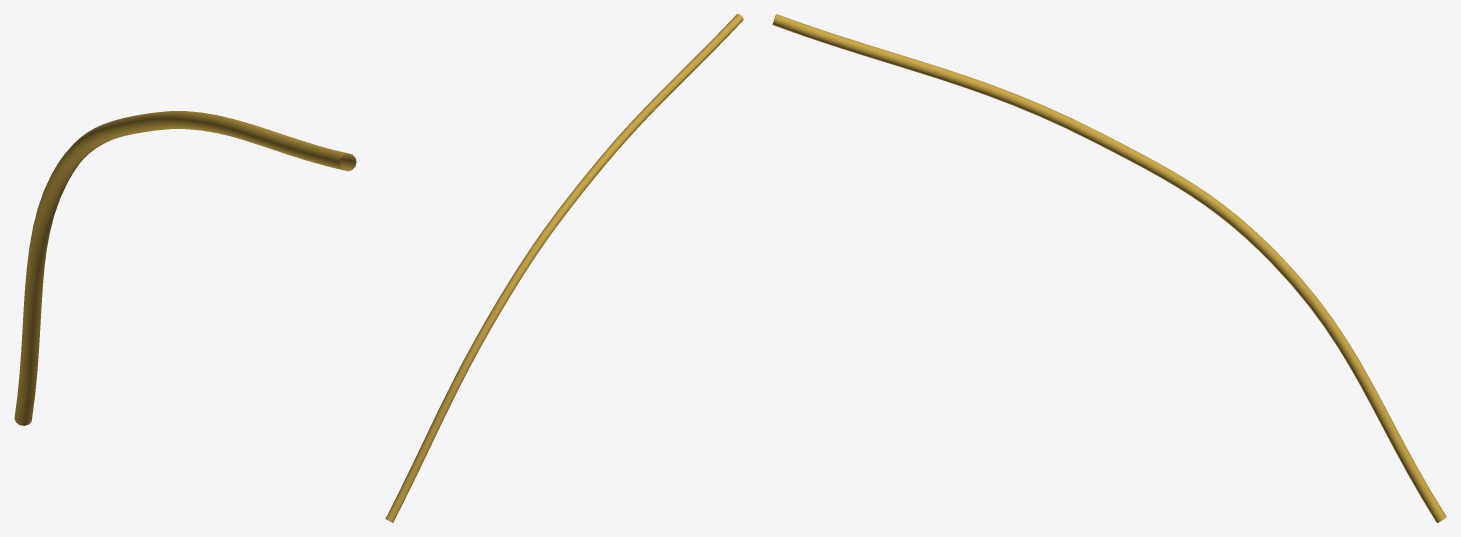
3 renders of one model, left to right at view 1: azimuth 30°, elevation 25°; view 2: azimuth 150°, elevation 25°; view 3: azimuth 270°, elevation 25°, orthographic. The views are drawn at different scales.
Parts seen in each view (by area): view 1: 左侧锁骨下神经; view 2: 左侧锁骨下神经; view 3: 左侧锁骨下神经.
Part boxes in pixels (x1=…): 左侧锁骨下神经: x1=14, y1=111, x2=356, y2=425; 左侧锁骨下神经: x1=385, y1=14, x2=743, y2=522; 左侧锁骨下神经: x1=772, y1=14, x2=1446, y2=522.
Size of the model in its own units: 0.0191 by 0.0621 by 0.0846.
